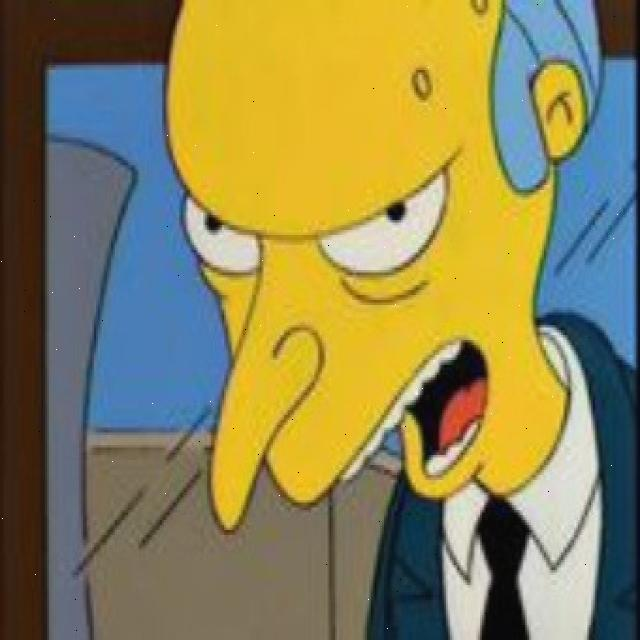Charles Montgomery Burns: (163, 0, 605, 540)
